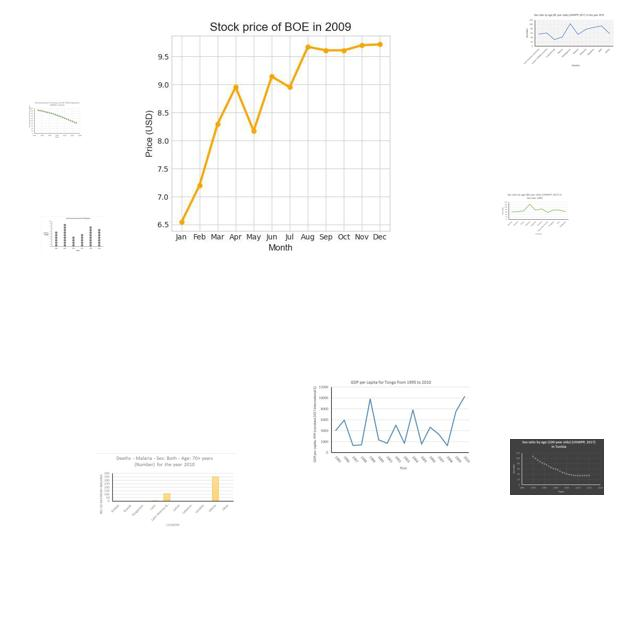Graph: (107, 5, 446, 259), (311, 377, 471, 471), (95, 453, 237, 529), (510, 439, 604, 495), (523, 12, 615, 67), (500, 192, 570, 236), (41, 216, 105, 253), (28, 101, 83, 139)
